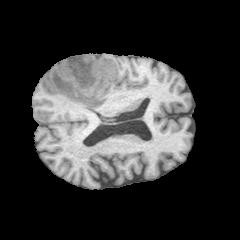glioma: (51, 54, 117, 111)
